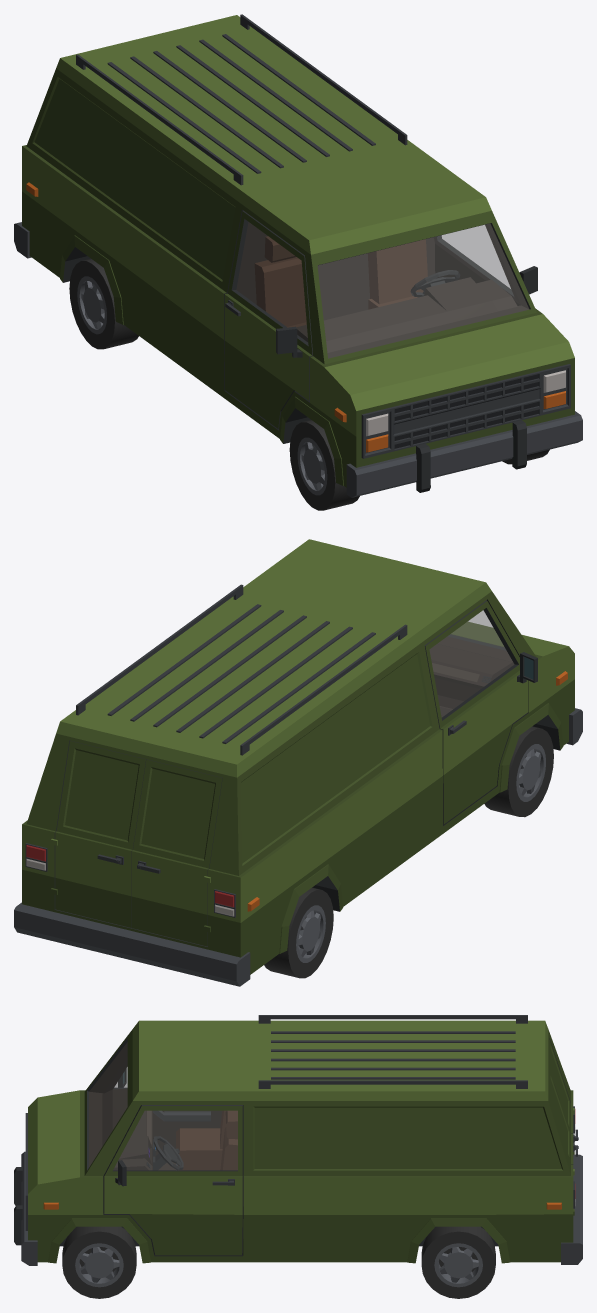
Rendered from 07_VAN.glb.
3 views of the same model, one above another, from view 1: azimuth 30°, elevation 25°; view 2: azimuth 150°, elevation 25°; view 3: azimuth 270°, elevation 25° (orthographic). The views are drawn at different scales.
Parts seen in each view (by area): view 1: 07_VAN, WINDOW F.001, INTERIOR002, DOOR FR.001, WIN FR.002, WHEEL.2R.001, WHEEL.1R.001, DOOR. FL.001, WIN FL.001; view 2: 07_VAN, DOOR BL.001, DOOR BR.001, DOOR FR.001, WIN FR.002, WHEEL.2R.001, WHEEL.1R.001, INTERIOR002, WINDOW F.001; view 3: 07_VAN, DOOR. FL.001, WIN FL.001, INTERIOR002, WHEEL.1L.001, WHEEL.2L.001, WINDOW F.001, DOOR FR.001, DOOR BR.001, DOOR BL.001.
Part boxes in pixels (x1,y1,x2,y2): 07_VAN: (14,14,582,497); WINDOW F.001: (318,224,528,358); INTERIOR002: (254,236,517,352); DOOR FR.001: (224,210,312,428); WIN FR.002: (236,222,307,341); WHEEL.2R.001: (69,258,138,349); WHEEL.1R.001: (289,420,359,510); DOOR. FL.001: (434,224,537,305); WIN FL.001: (437,225,513,295); 07_VAN: (14,539,582,986); DOOR BL.001: (55,740,146,927); DOOR BR.001: (131,759,222,946); DOOR FR.001: (424,600,537,824); WIN FR.002: (430,610,513,716); WHEEL.2R.001: (264,887,333,978); WHEEL.1R.001: (484,726,553,817); INTERIOR002: (429,644,514,708); WINDOW F.001: (449,611,505,649); 07_VAN: (14,1015,582,1265); DOOR. FL.001: (103,1105,243,1255); WIN FL.001: (113,1111,237,1169); INTERIOR002: (102,1088,237,1170); WHEEL.1L.001: (62,1226,136,1298); WHEEL.2L.001: (421,1226,495,1298); WINDOW F.001: (89,1043,127,1166); DOOR FR.001: (103,1056,222,1156); DOOR BR.001: (549,1039,578,1142); DOOR BL.001: (549,1069,578,1164).
Size of the model in its own units: 2.25 by 2.1 by 5.22.
2 materials, 2 textured.
